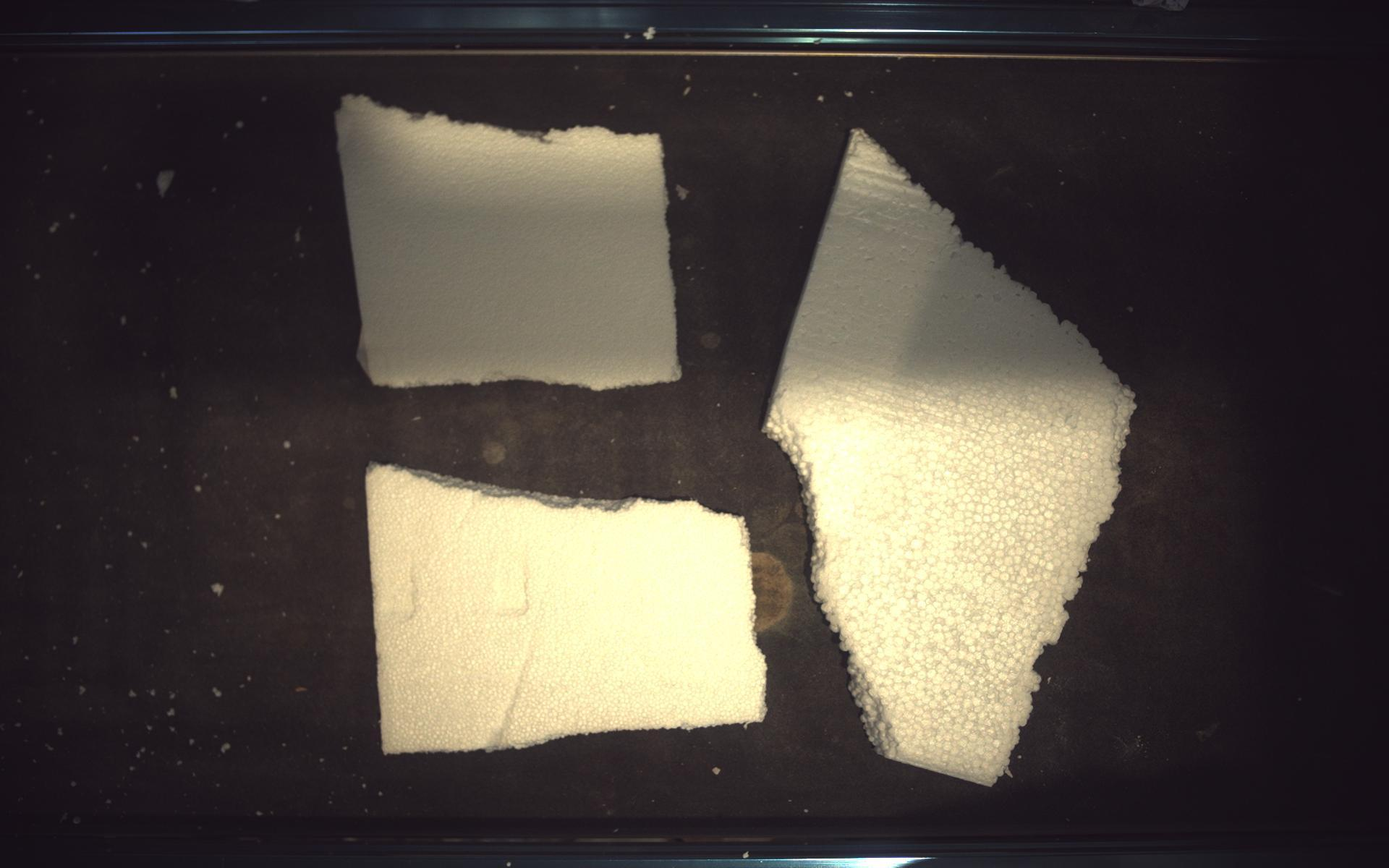foam: (767, 129, 1137, 786), (365, 464, 767, 755), (335, 95, 681, 390)
